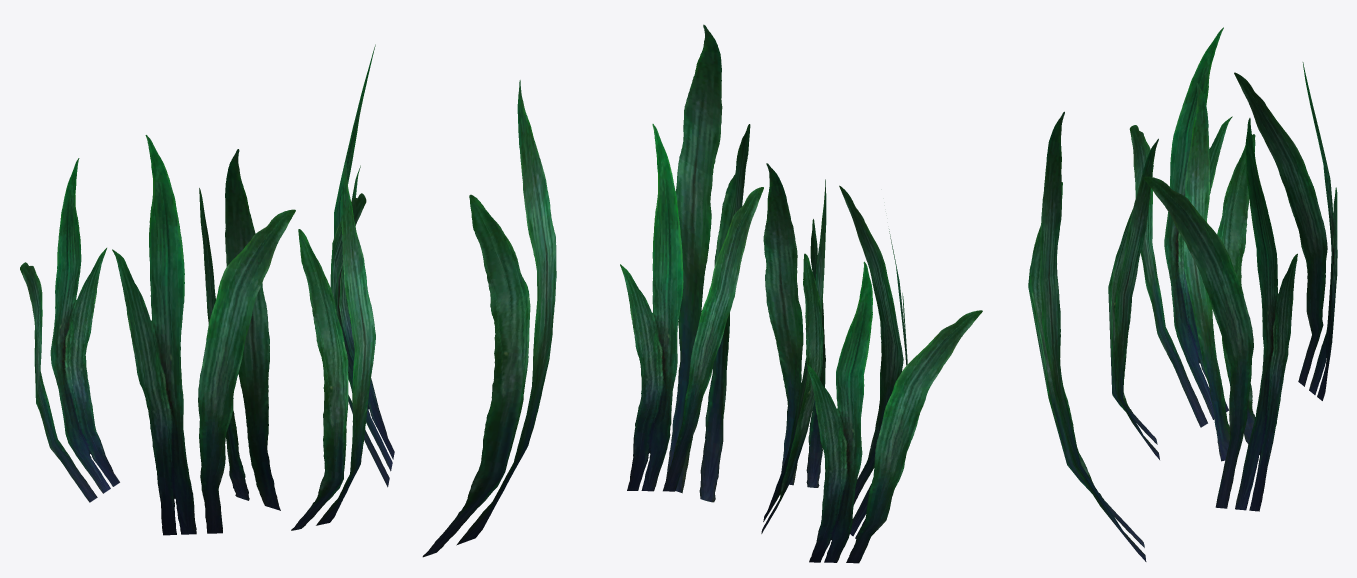
The model's file is S_Plant_Sea002.FBX.
The picture shows the model from 3 angles, left to right: view 1: azimuth 30°, elevation 25°; view 2: azimuth 150°, elevation 25°; view 3: azimuth 270°, elevation 25°; orthographic projection. The views are drawn at different scales.
Parts seen in each view (by area): view 1: S_Plant_Sea002; view 2: S_Plant_Sea002; view 3: S_Plant_Sea002.
Boxes of the visible parts, bbox=[...] form: S_Plant_Sea002: bbox=[20, 44, 556, 557]; S_Plant_Sea002: bbox=[620, 24, 982, 563]; S_Plant_Sea002: bbox=[1028, 27, 1337, 561].
Size of the model in its own units: 101 by 64.79 by 107.
